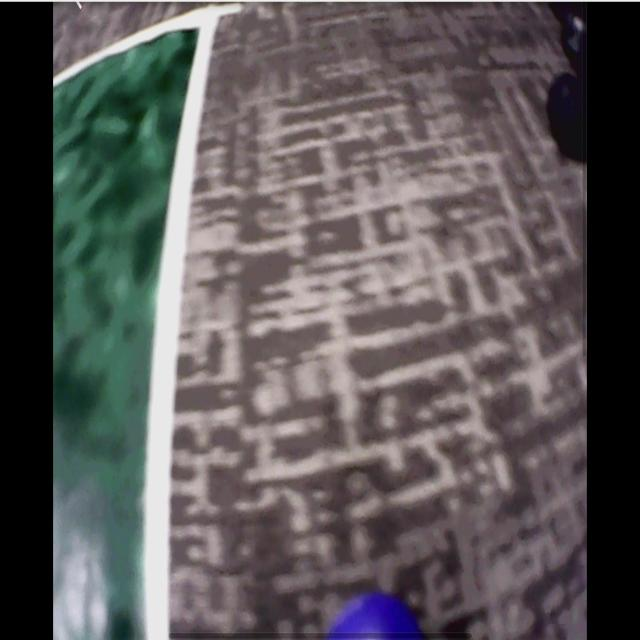ball: (329, 594, 423, 640)
